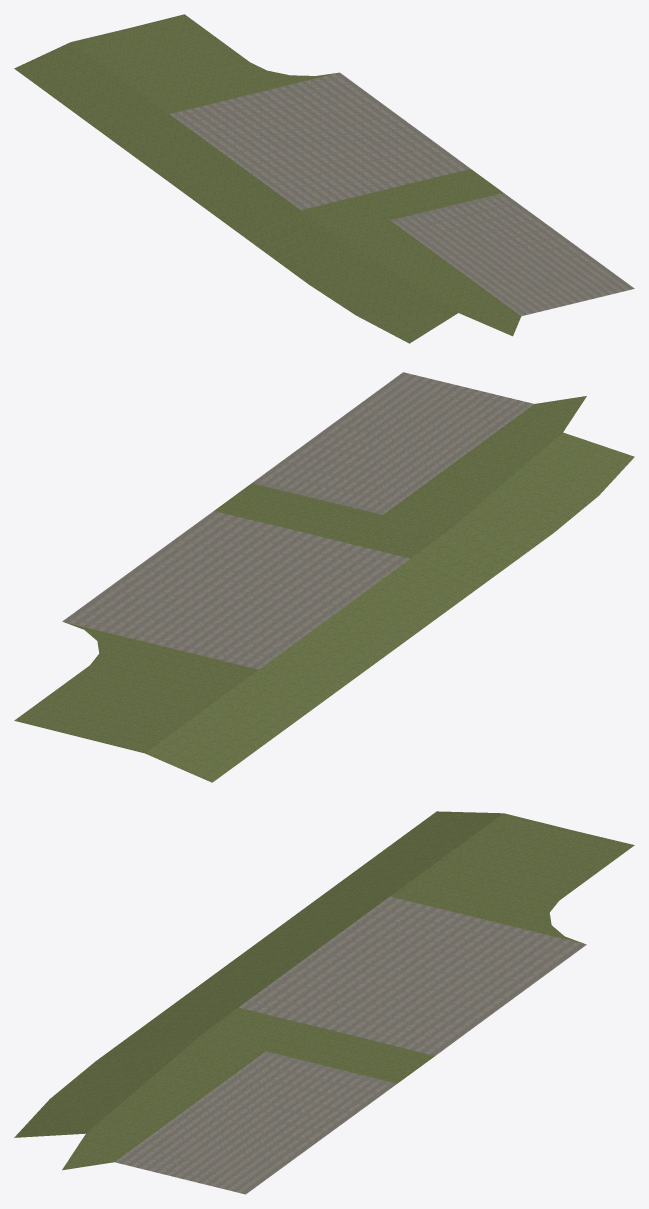
File: lodeland07_lvs.obj
3 views of the same model, one above another, from view 1: azimuth 30°, elevation 25°; view 2: azimuth 150°, elevation 25°; view 3: azimuth 330°, elevation 25° (orthographic). The views are drawn at different scales.
Visible parts, largest first — view 1: lodEland07_lvs; view 2: lodEland07_lvs; view 3: lodEland07_lvs.
Boxes of the visible parts, x1,y1,x2,y2 form: lodEland07_lvs: [14, 14, 634, 343]; lodEland07_lvs: [14, 372, 634, 782]; lodEland07_lvs: [14, 811, 634, 1194].
Bounding box in the file's own units: 80.27 × 4.19 × 252.
Materials: 2 (2 with a texture image).
